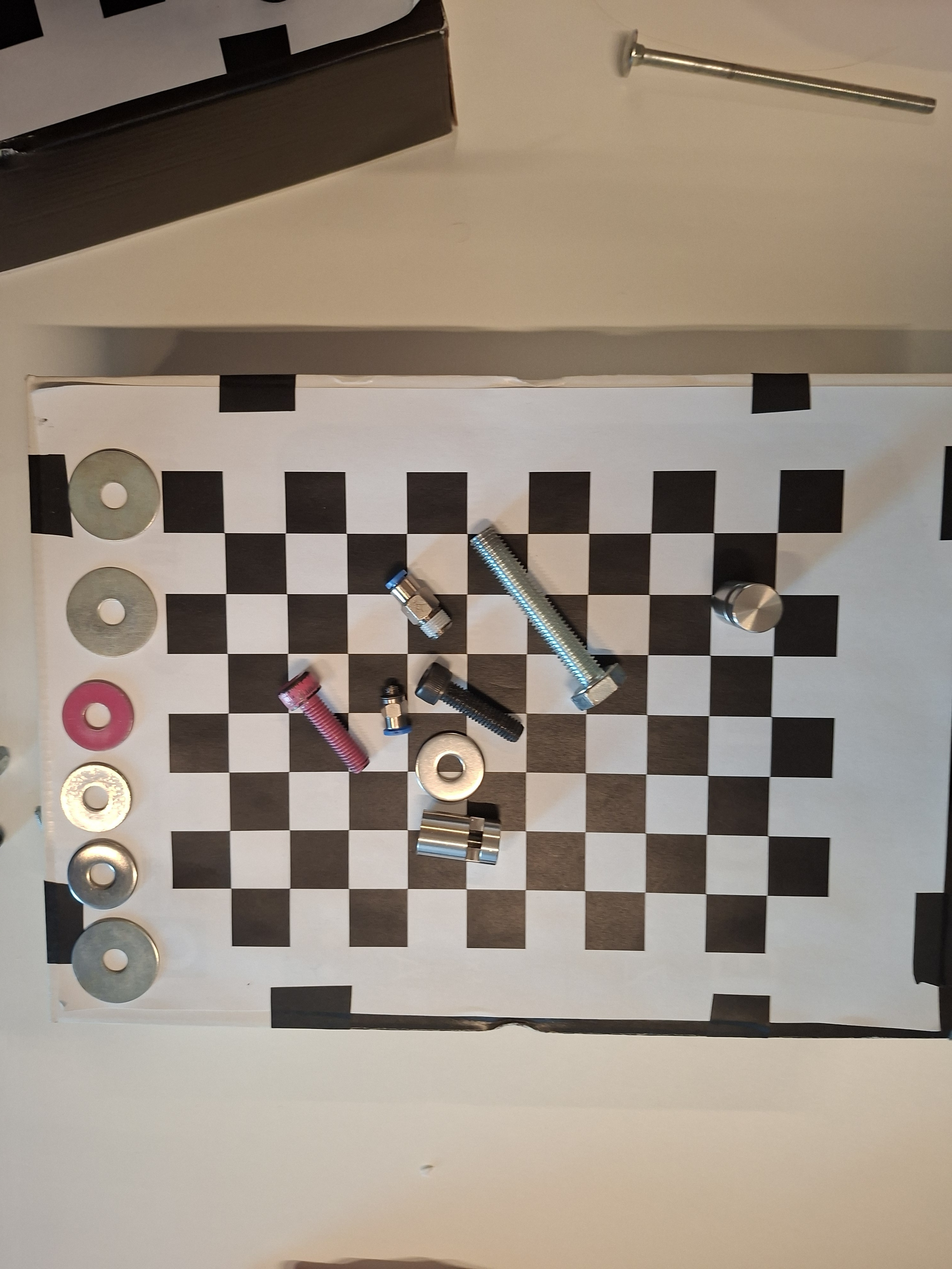allen_screw: (267, 663, 382, 786), (409, 659, 533, 756)
barrel_nut: (413, 803, 512, 868), (706, 567, 790, 643)
hex_bolt: (455, 508, 632, 717)
pneumatic_fitting: (376, 558, 464, 649), (376, 679, 413, 739)
washer: (63, 911, 170, 1010), (62, 567, 161, 663), (64, 445, 162, 539), (58, 829, 147, 917), (405, 726, 493, 812), (53, 761, 139, 835), (58, 676, 137, 754)
